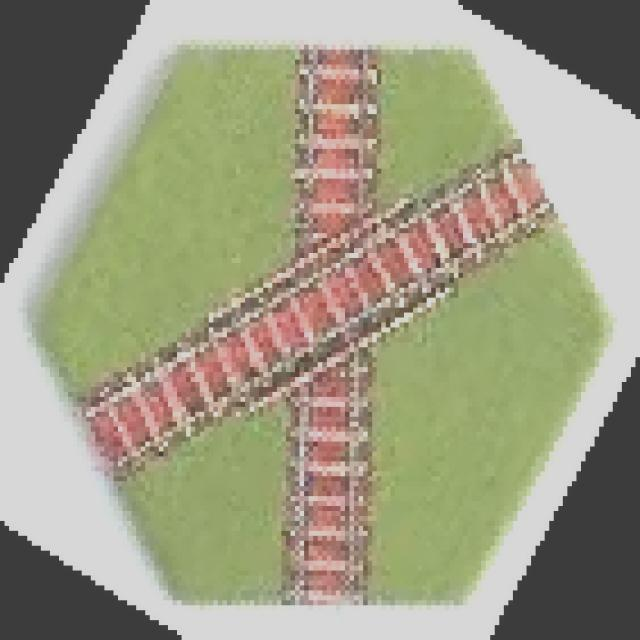9_1: (32, 40, 610, 608)
